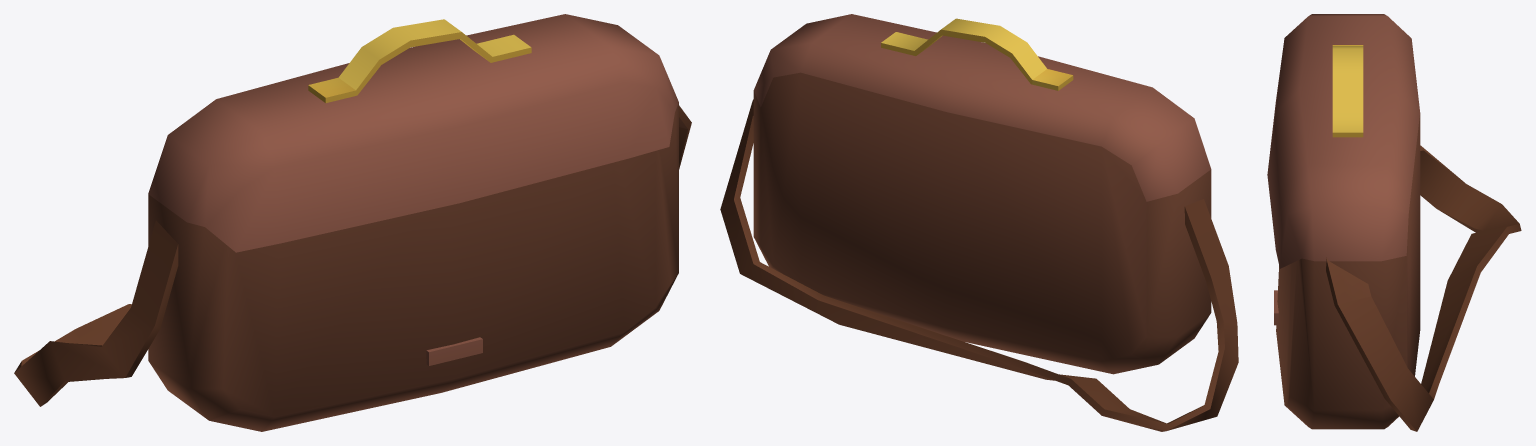
File: clothes.fbx
The picture shows the model from 3 angles, left to right: view 1: azimuth 30°, elevation 25°; view 2: azimuth 150°, elevation 25°; view 3: azimuth 270°, elevation 25°; orthographic projection. The views are drawn at different scales.
Parts seen in each view (by area): view 1: clothes; view 2: clothes; view 3: clothes.
Part boxes in pixels (x1,y1,x2,y2): clothes: [14, 14, 691, 431]; clothes: [720, 14, 1238, 431]; clothes: [1267, 14, 1521, 431].
Bounding box in the file's own units: 150 × 80.44 × 61.61.
